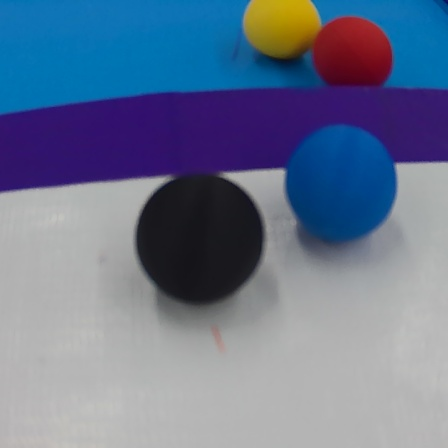black: (130, 168, 267, 312)
blue: (284, 120, 400, 248)
blue_aim: (2, 2, 448, 196)
red: (311, 17, 395, 97)
yellow: (241, 0, 326, 62)
